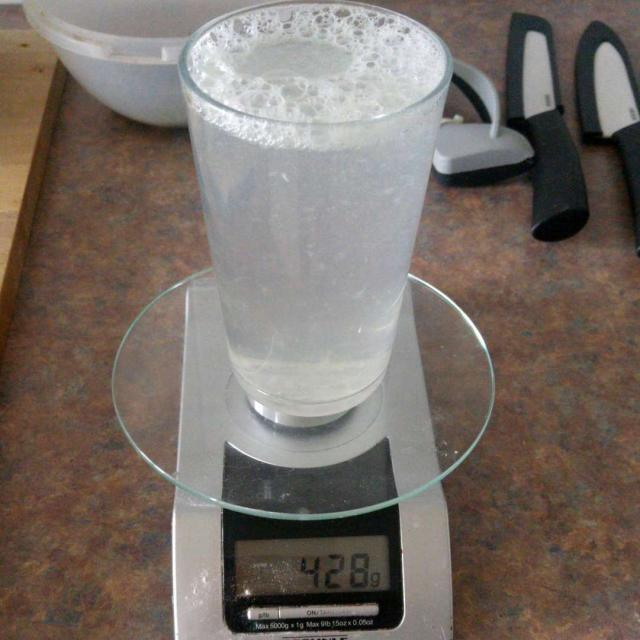water: (186, 6, 441, 429)
